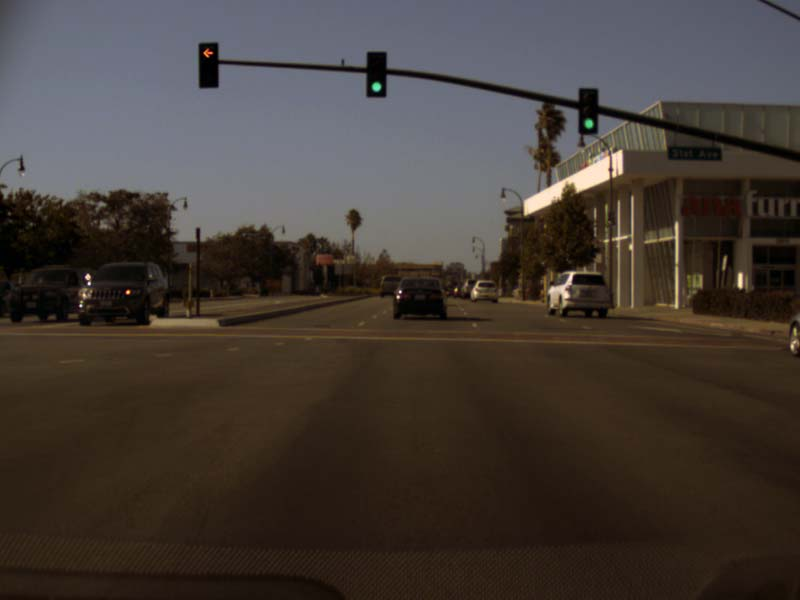Green: (366, 51, 387, 98), (578, 86, 596, 133)
Red: (197, 43, 219, 88)
